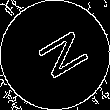N_SW: (23, 25, 87, 85)
